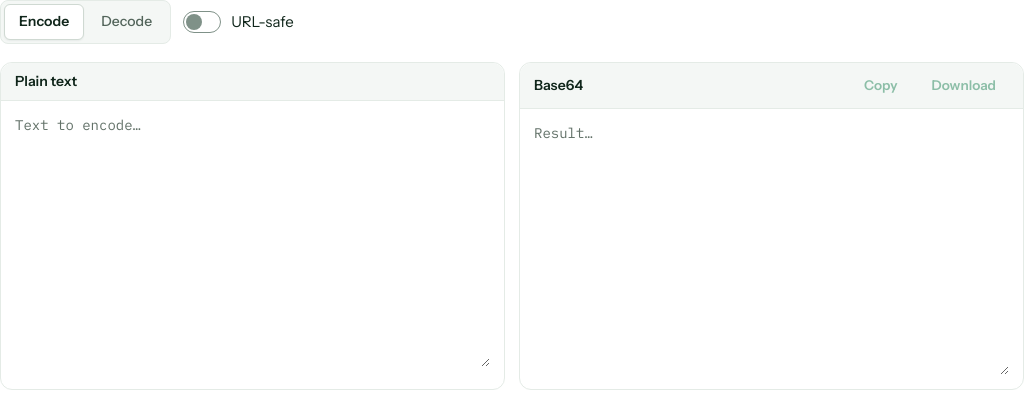
it: Base64 › encodes ASCII text
The image size is (1024, 407).
Type "Hello" into the text box with placeholder "Text to encode…" at (252, 241), box [15,115,490,367]
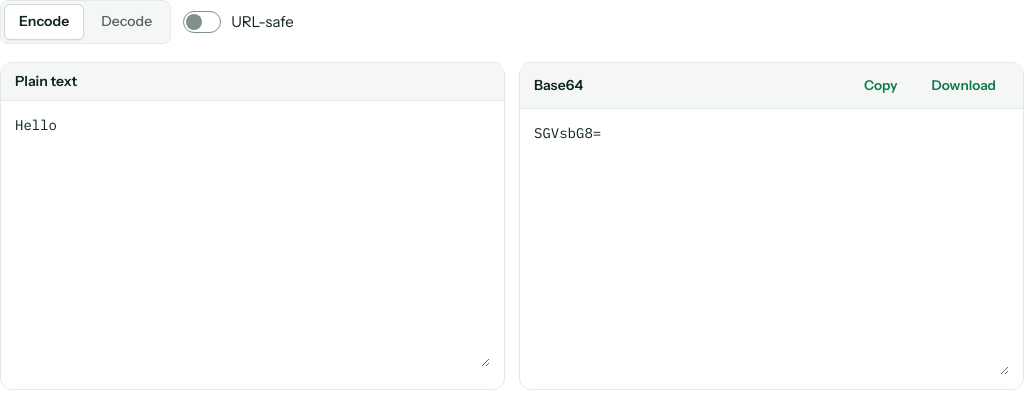
Expected: the text box with placeholder "Result…" below "base64" holds "SGVsbG8=", [534,123,1009,375]
